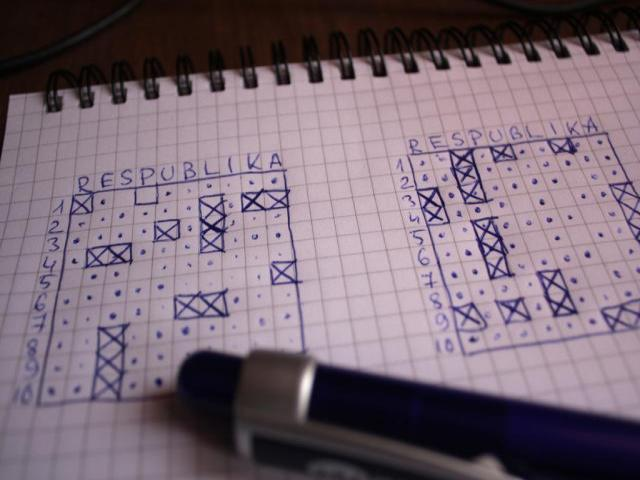PEN: (149, 332, 640, 480)
